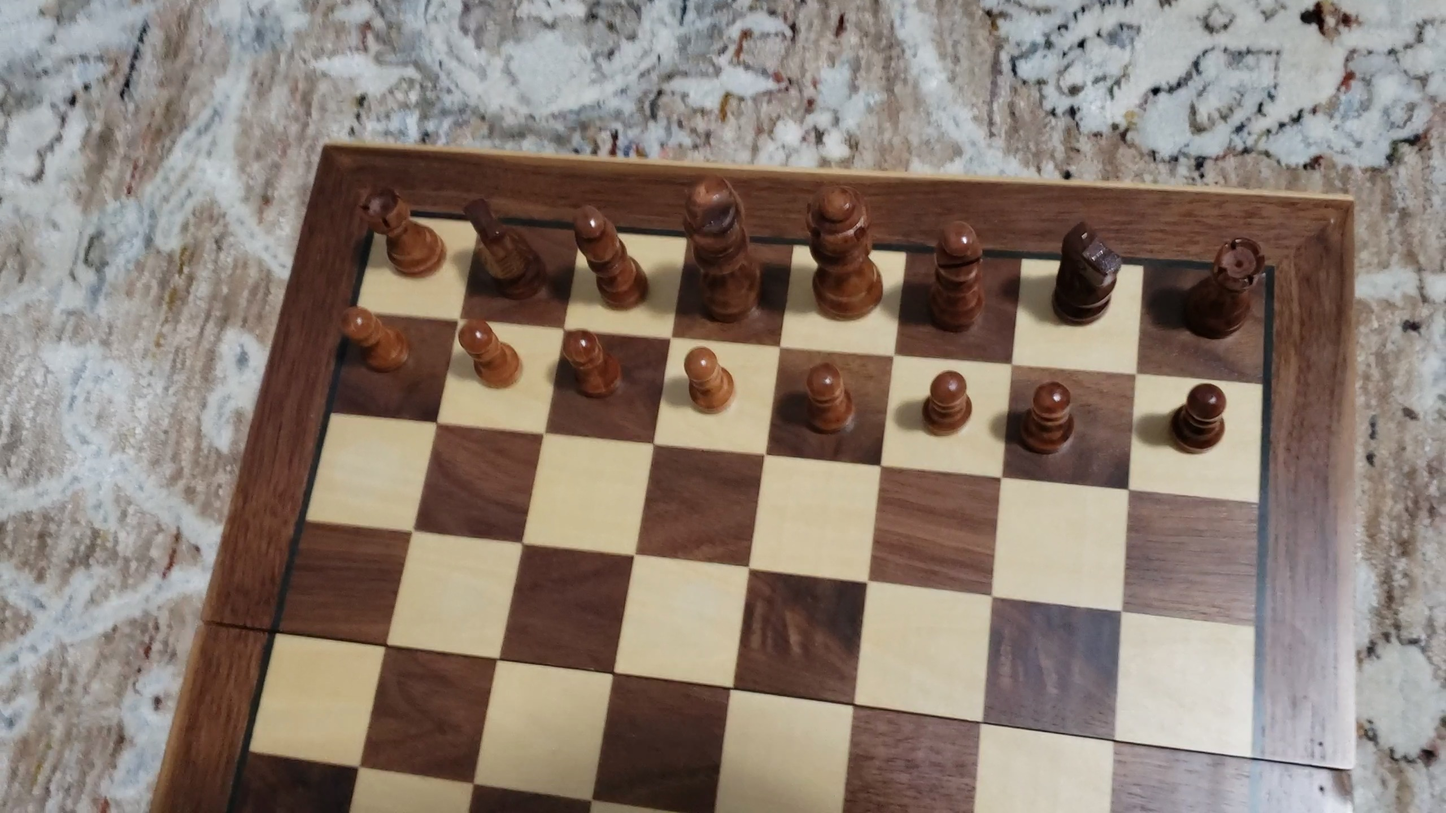black-bishop: (570, 199, 649, 312), (927, 217, 988, 334)
black-king: (680, 170, 764, 325)
black-knight: (463, 195, 545, 301), (1049, 217, 1125, 325)
black-pawn: (336, 303, 412, 375), (1166, 379, 1232, 458), (1016, 378, 1079, 459), (456, 317, 522, 391), (800, 359, 858, 438), (562, 326, 621, 401), (919, 367, 974, 440), (681, 343, 735, 416)
black-queen: (800, 177, 887, 322)
black-rook: (1180, 235, 1266, 342), (356, 183, 447, 279)
